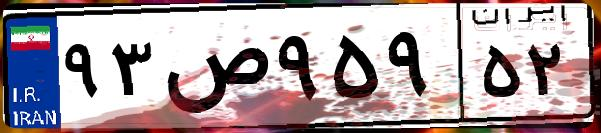2: (525, 38, 570, 115)
3: (110, 28, 158, 98)
5: (330, 28, 385, 110), (475, 38, 525, 113)
9: (270, 28, 330, 110), (385, 28, 445, 110), (57, 26, 110, 100)
ص: (158, 20, 270, 120)
